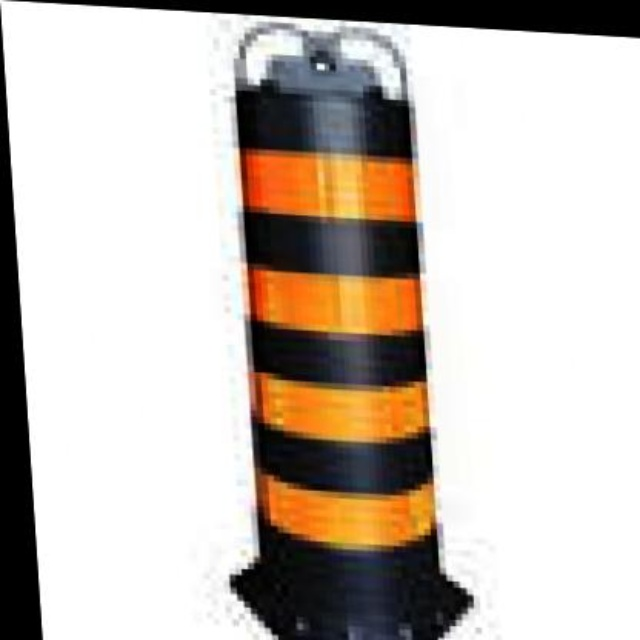obstacle: (214, 73, 466, 615)
